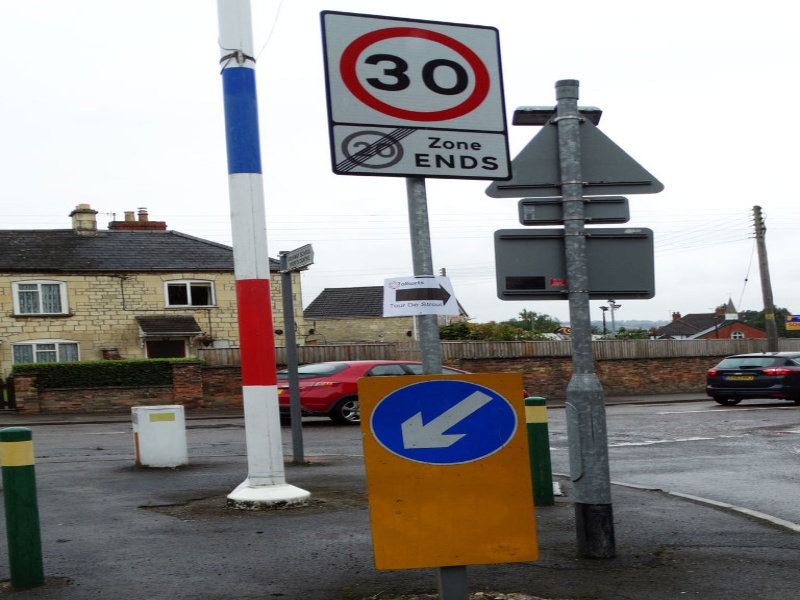speed_limit_30: (317, 9, 518, 125)
zone_ends: (332, 125, 514, 196)
